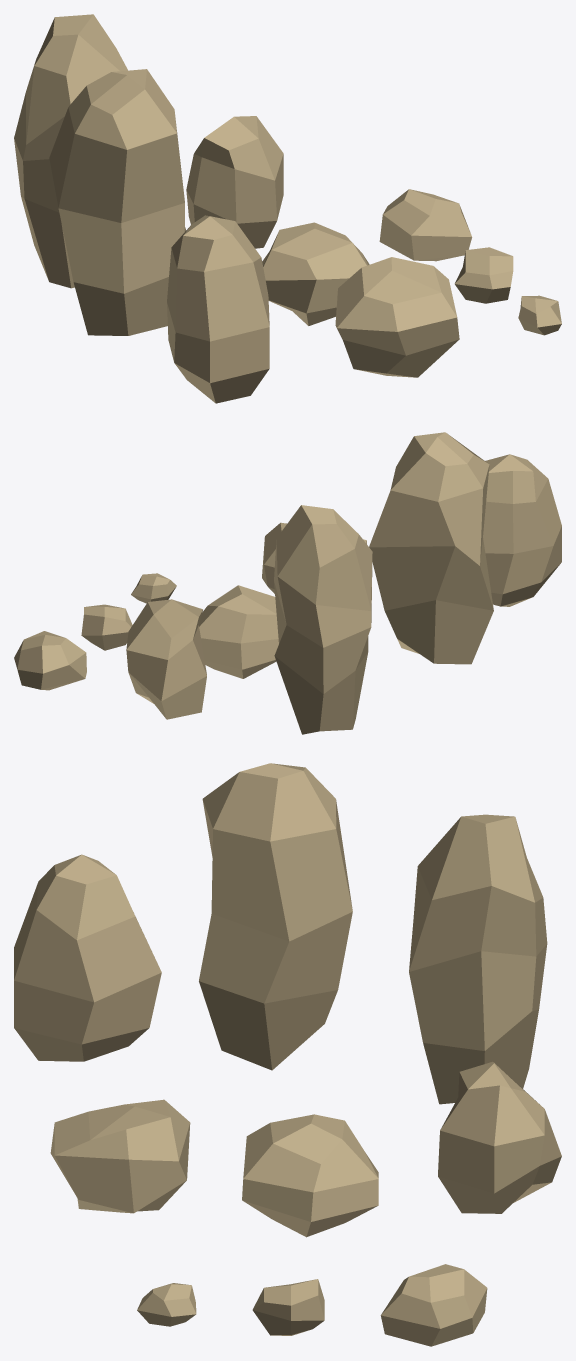
The model's file is RockAssets1.fbx.
The picture shows the model from 3 angles, top to bottom: view 1: azimuth 30°, elevation 25°; view 2: azimuth 150°, elevation 25°; view 3: azimuth 270°, elevation 25°; orthographic projection. The views are drawn at different scales.
Visible parts, largest first — view 1: LargeRock_2, LargeRock_3, LargeRock_1, MediumRock_3, MediumRock_1, MediumRock_2, SmallRock_1, SmallRock_2, SmallRock_3; view 2: LargeRock_2, LargeRock_1, LargeRock_3, MediumRock_1, MediumRock_2, SmallRock_1, SmallRock_2, SmallRock_3, MediumRock_3; view 3: LargeRock_2, LargeRock_1, LargeRock_3, MediumRock_1, MediumRock_2, MediumRock_3, SmallRock_1, SmallRock_2, SmallRock_3.
Boxes of the visible parts, x1=… form: LargeRock_2: x1=49, y1=69, x2=185, y2=335; LargeRock_3: x1=167, y1=215, x2=269, y2=403; LargeRock_1: x1=14, y1=14, x2=127, y2=288; MediumRock_3: x1=335, y1=257, x2=459, y2=377; MediumRock_1: x1=186, y1=116, x2=283, y2=248; MediumRock_2: x1=262, y1=222, x2=369, y2=325; SmallRock_1: x1=379, y1=189, x2=472, y2=261; SmallRock_2: x1=454, y1=247, x2=513, y2=303; SmallRock_3: x1=518, y1=295, x2=561, y2=335; LargeRock_2: x1=369, y1=432, x2=493, y2=664; LargeRock_1: x1=274, y1=505, x2=372, y2=734; LargeRock_3: x1=483, y1=454, x2=561, y2=606; MediumRock_1: x1=126, y1=599, x2=206, y2=719; MediumRock_2: x1=199, y1=585, x2=278, y2=678; SmallRock_1: x1=14, y1=631, x2=86, y2=690; SmallRock_2: x1=81, y1=604, x2=132, y2=650; SmallRock_3: x1=131, y1=573, x2=176, y2=603; MediumRock_3: x1=262, y1=522, x2=366, y2=593; LargeRock_2: x1=199, y1=763, x2=352, y2=1070; LargeRock_1: x1=409, y1=814, x2=547, y2=1104; LargeRock_3: x1=14, y1=854, x2=161, y2=1061; MediumRock_1: x1=438, y1=1061, x2=561, y2=1213; MediumRock_2: x1=242, y1=1114, x2=378, y2=1237; MediumRock_3: x1=50, y1=1099, x2=190, y2=1213; SmallRock_1: x1=380, y1=1264, x2=487, y2=1346; SmallRock_2: x1=252, y1=1279, x2=324, y2=1335; SmallRock_3: x1=137, y1=1283, x2=196, y2=1326.
Bounding box in the file's own units: 3.93 × 2.6 × 3.5.
